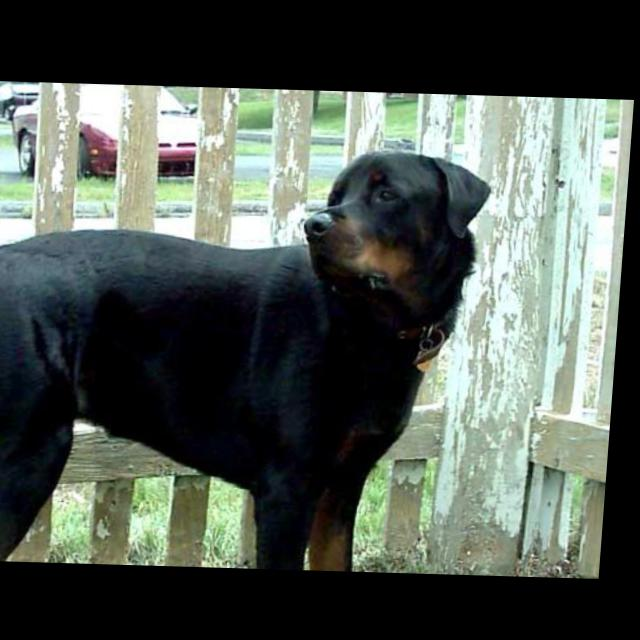rottweiler: (1, 138, 499, 572)
